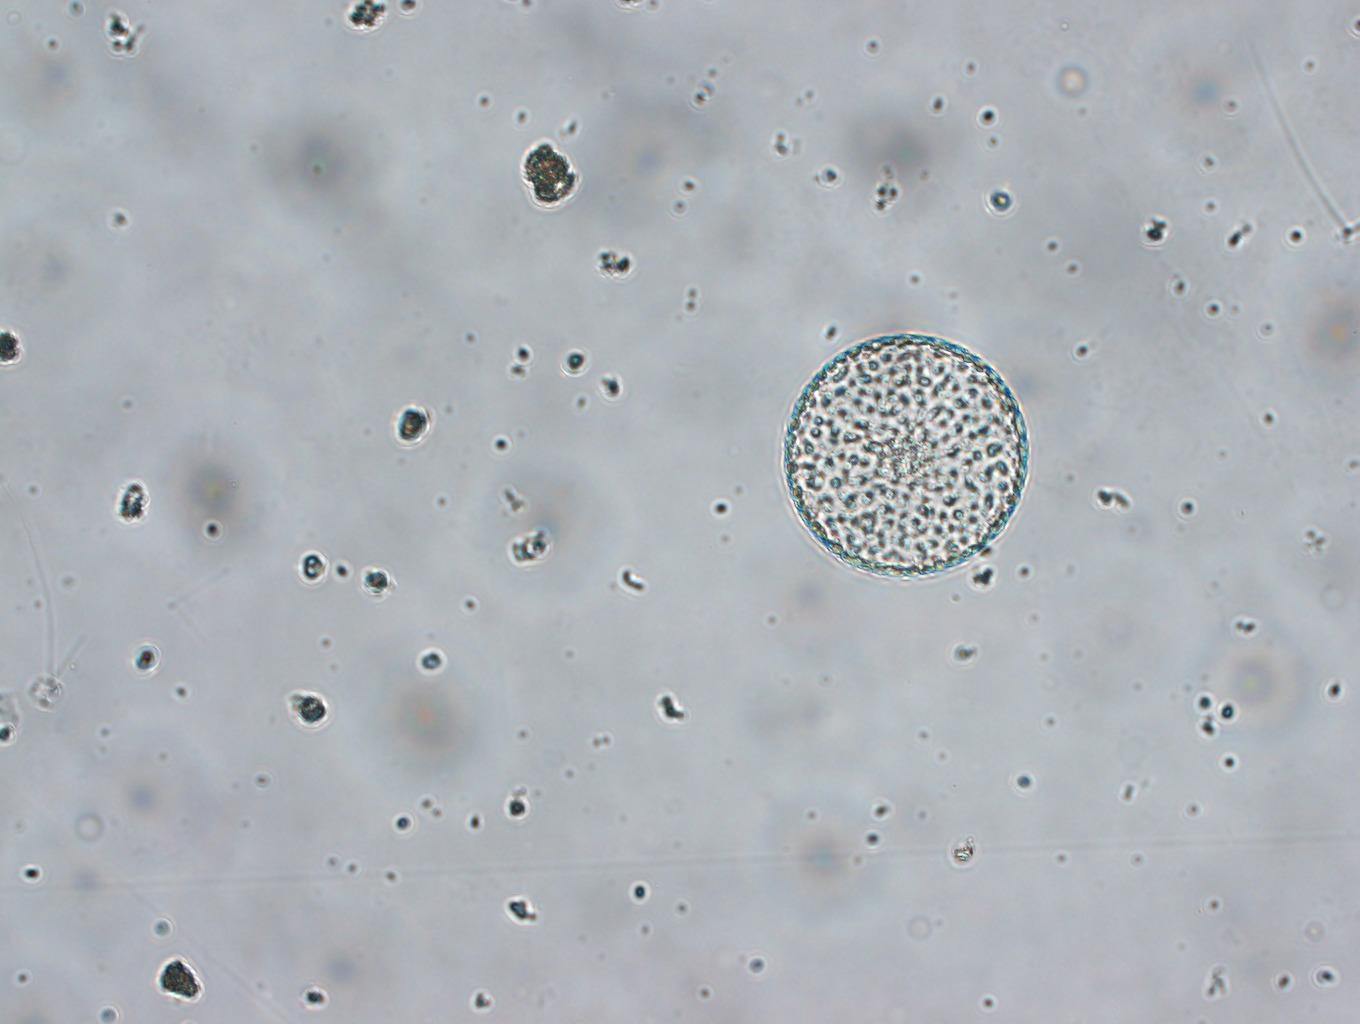coscinodiscus: (775, 323, 1035, 582)
